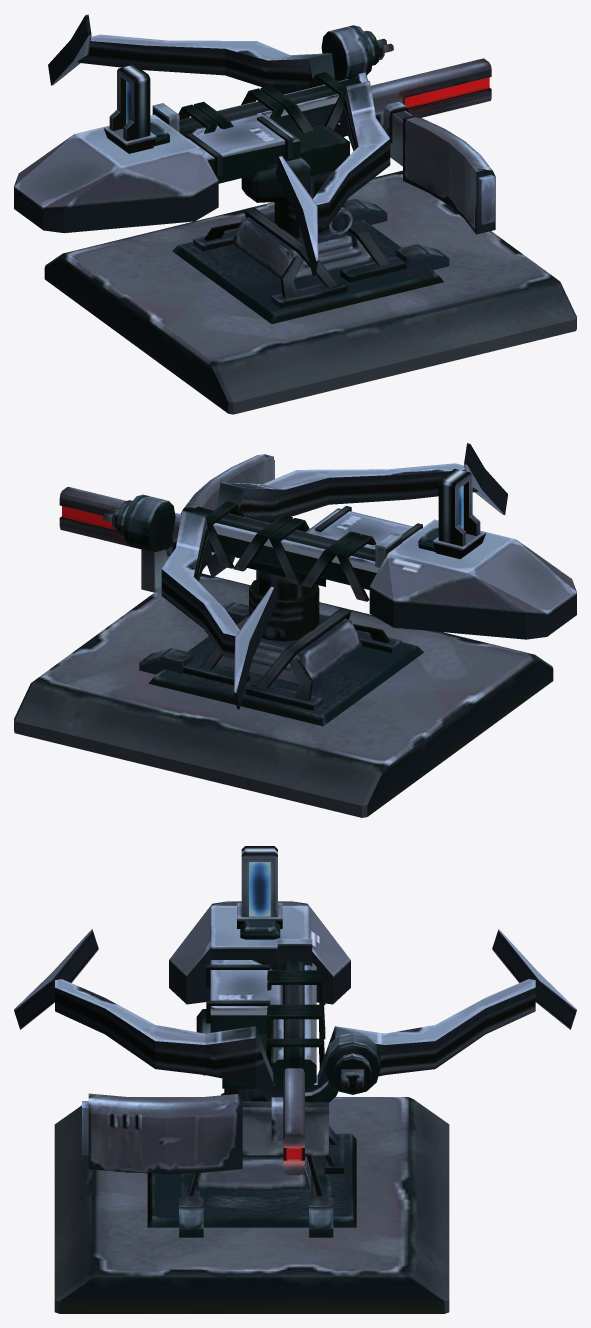
The model's file is bolt.glb.
The picture shows the model from 3 angles, top to bottom: view 1: azimuth 30°, elevation 25°; view 2: azimuth 150°, elevation 25°; view 3: azimuth 270°, elevation 25°; orthographic projection. The views are drawn at different scales.
Visible parts, largest first — view 1: bolt_pedestal, bolt_body, bow, bolt_muzzle; view 2: bolt_pedestal, bolt_body, bow, bolt_muzzle; view 3: bolt_pedestal, bolt_body, bolt_muzzle, bow.
Boxes of the visible parts, bbox=[...] form: bolt_pedestal: bbox=[44, 170, 576, 414]; bolt_body: bbox=[14, 64, 361, 233]; bow: bbox=[48, 14, 390, 277]; bolt_muzzle: bbox=[321, 25, 495, 234]; bolt_pedestal: bbox=[14, 570, 553, 817]; bolt_body: bbox=[191, 468, 576, 639]; bow: bbox=[161, 443, 507, 709]; bolt_muzzle: bbox=[59, 454, 274, 592]; bolt_pedestal: bbox=[54, 1088, 449, 1313]; bolt_body: bbox=[169, 846, 350, 1088]; bolt_muzzle: bbox=[82, 1032, 380, 1175]; bow: bbox=[14, 929, 576, 1101].
Size of the model in its own units: 1 by 0.5505 by 0.9836.
Materials: 1 (1 with a texture image).
